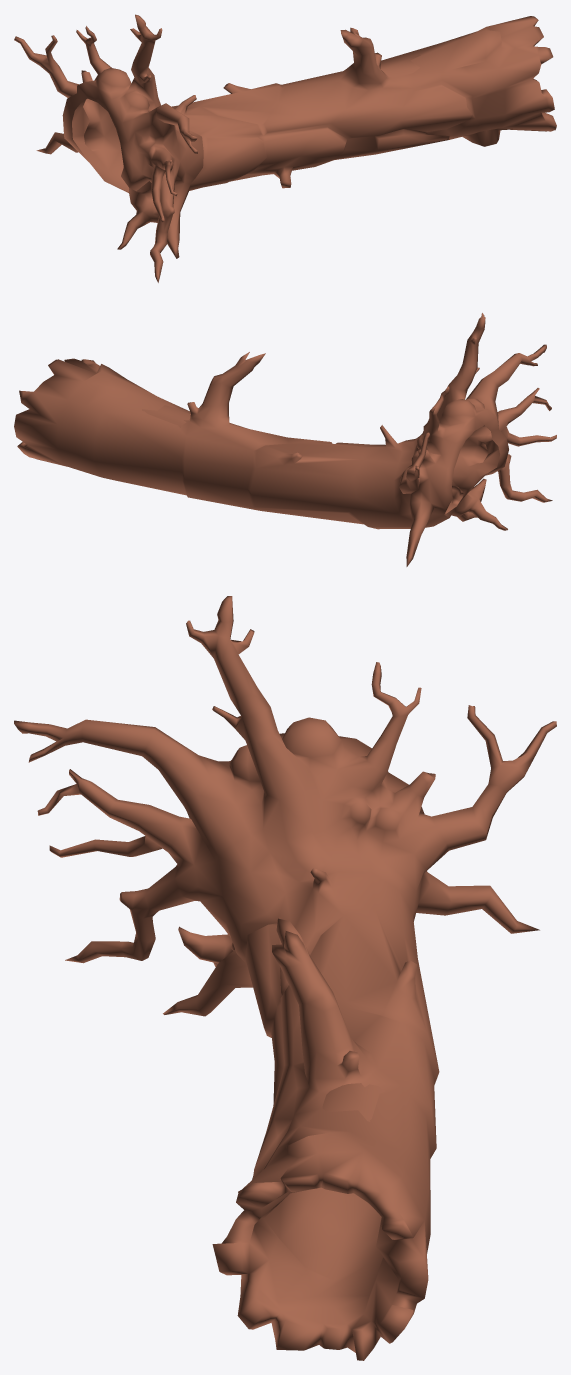
Rendered from thunderLog.glb.
3 renders of one model, top to bottom at view 1: azimuth 30°, elevation 25°; view 2: azimuth 150°, elevation 25°; view 3: azimuth 270°, elevation 25°, orthographic. The views are drawn at different scales.
Parts seen in each view (by area): view 1: tree root 3d model; view 2: tree root 3d model; view 3: tree root 3d model.
Part boxes in pixels (x1,y1,x2,y2): tree root 3d model: (14, 14, 556, 282); tree root 3d model: (14, 313, 556, 566); tree root 3d model: (14, 596, 556, 1360).
Bounding box in the file's own units: 0.9995 × 0.4712 × 0.5796.
